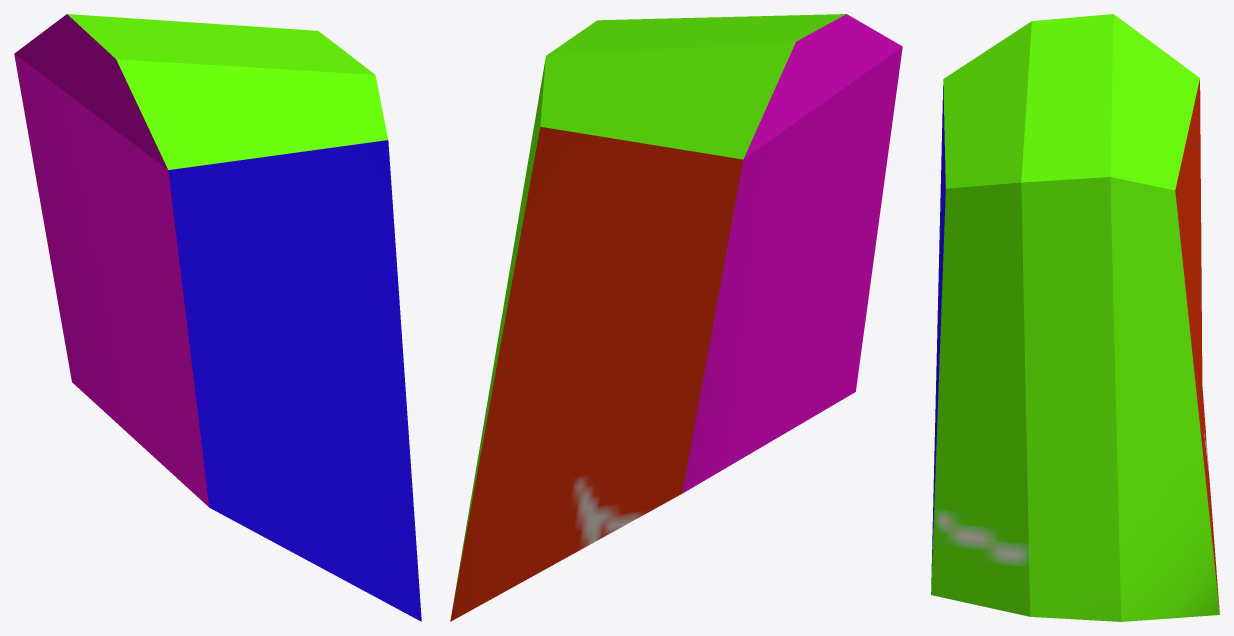
Rendered from Statue1-3.fbx.
The picture shows the model from 3 angles, left to right: view 1: azimuth 30°, elevation 25°; view 2: azimuth 150°, elevation 25°; view 3: azimuth 270°, elevation 25°; orthographic projection. The views are drawn at different scales.
Parts seen in each view (by area): view 1: Cube.001; view 2: Cube.001; view 3: Cube.001.
Boxes of the visible parts, x1=… form: Cube.001: x1=14, y1=14, x2=421, y2=621; Cube.001: x1=450, y1=14, x2=902, y2=621; Cube.001: x1=931, y1=14, x2=1219, y2=621.
Size of the model in its own units: 84.88 by 154 by 82.42.
